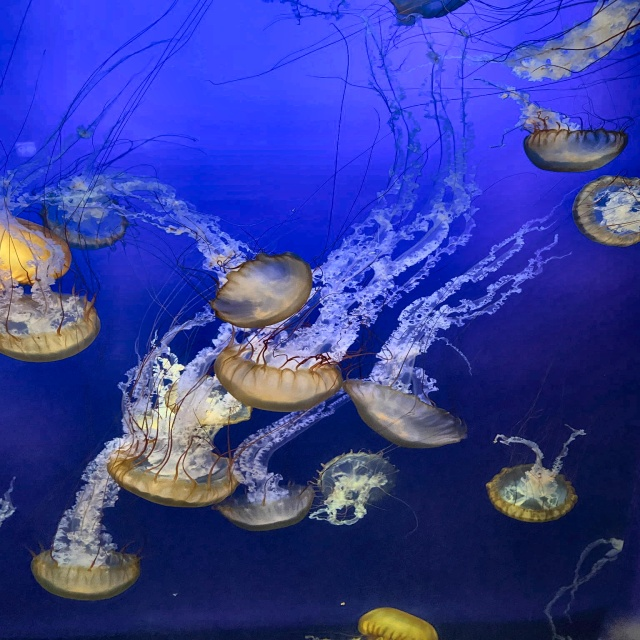jellyfish: (105, 442, 240, 508), (341, 377, 464, 449), (212, 343, 338, 413), (210, 252, 312, 329), (0, 291, 99, 363), (32, 546, 140, 601), (488, 464, 577, 522), (0, 217, 72, 288), (215, 483, 313, 532), (574, 175, 639, 248), (523, 128, 627, 173), (319, 453, 398, 507), (42, 205, 126, 251), (358, 607, 435, 639), (386, 0, 470, 20)
